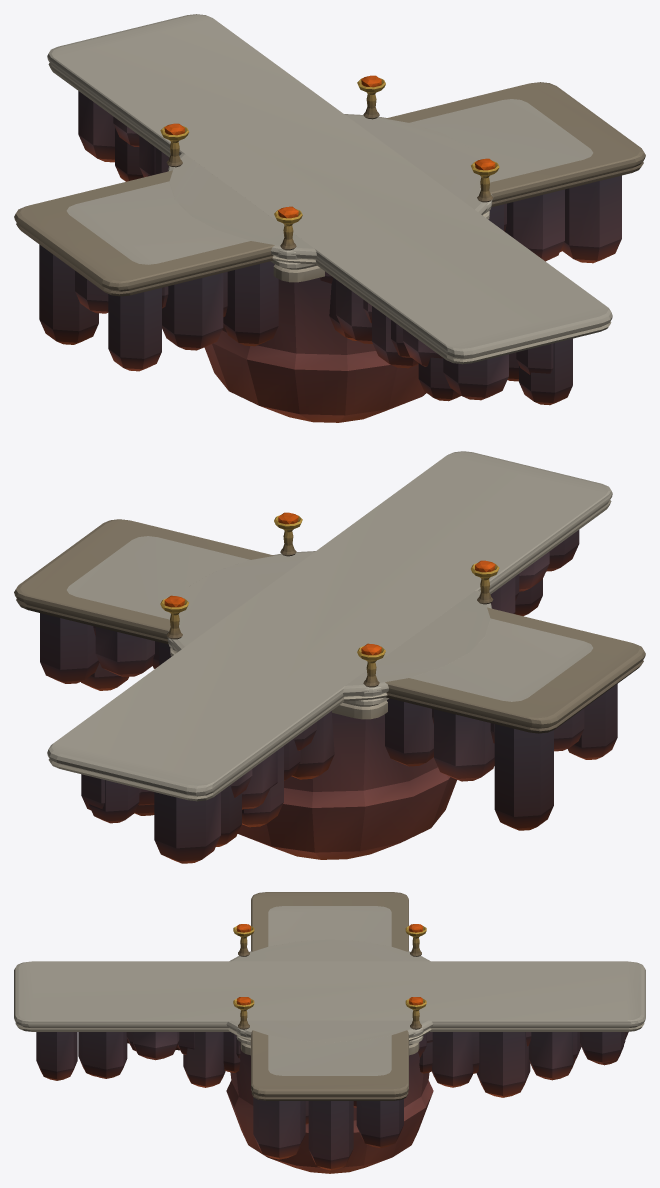
File: volcano-1-DGVLpk6b.glb
3 renders of one model, top to bottom at view 1: azimuth 30°, elevation 25°; view 2: azimuth 150°, elevation 25°; view 3: azimuth 270°, elevation 25°, orthographic. The views are drawn at different scales.
Parts seen in each view (by area): view 1: block_9x2x40_grate#1, block_30x2x10_column#0, disc_16x1.5#0, block_26x2x8_grate#1, block_8x2x40#1, pad_12x2x12#0; view 2: block_9x2x40_grate#1, block_30x2x10_column#0, disc_16x1.5#0, block_26x2x8_grate#1, block_8x2x40#1, pad_12x2x12#0; view 3: block_9x2x40_grate#1, block_30x2x10_column#0, disc_16x1.5#0, block_26x2x8_grate#1, block_8x2x40#1, pad_12x2x12#0, block_8x2x16#0.
Part boxes in pixels (x1,y1,x2,y2): block_9x2x40_grate#1: [47, 14, 612, 405]; block_30x2x10_column#0: [14, 82, 645, 371]; disc_16x1.5#0: [168, 114, 493, 422]; block_26x2x8_grate#1: [66, 99, 593, 316]; block_8x2x40#1: [115, 128, 594, 401]; pad_12x2x12#0: [160, 75, 499, 282]; block_9x2x40_grate#1: [47, 451, 612, 863]; block_30x2x10_column#0: [14, 519, 645, 830]; disc_16x1.5#0: [166, 551, 491, 859]; block_26x2x8_grate#1: [67, 536, 592, 743]; block_8x2x40#1: [65, 530, 579, 846]; pad_12x2x12#0: [160, 512, 499, 719]; block_9x2x40_grate#1: [14, 961, 645, 1097]; block_30x2x10_column#0: [251, 892, 408, 1170]; disc_16x1.5#0: [226, 939, 433, 1173]; block_26x2x8_grate#1: [268, 906, 391, 1124]; block_8x2x40#1: [14, 972, 645, 1076]; pad_12x2x12#0: [233, 924, 426, 1055]; block_8x2x16#0: [223, 1032, 432, 1072].
Bounding box in the file's own units: 30 × 13.81 × 40.
